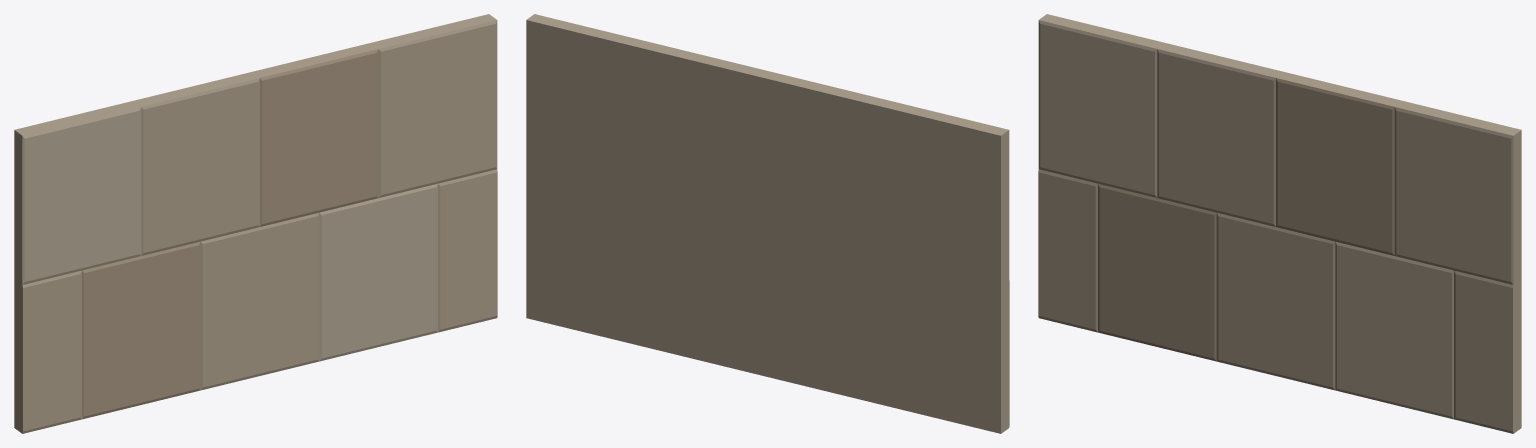
The model's file is Wall_Exterior_01.glb.
3 renders of one model, left to right at view 1: azimuth 30°, elevation 25°; view 2: azimuth 150°, elevation 25°; view 3: azimuth 330°, elevation 25°, orthographic.
Parts seen in each view (by area): view 1: SM_Env_Wall_Exterior_01; view 2: SM_Env_Wall_Exterior_01; view 3: SM_Env_Wall_Exterior_01.
Part boxes in pixels (left/top/right/bottom): SM_Env_Wall_Exterior_01: left=14, top=14, right=497, bottom=433; SM_Env_Wall_Exterior_01: left=526, top=14, right=1009, bottom=433; SM_Env_Wall_Exterior_01: left=1038, top=14, right=1521, bottom=433.
Size of the model in its own units: 5 by 3 by 0.1578.
Materials: 1 (1 with a texture image).
